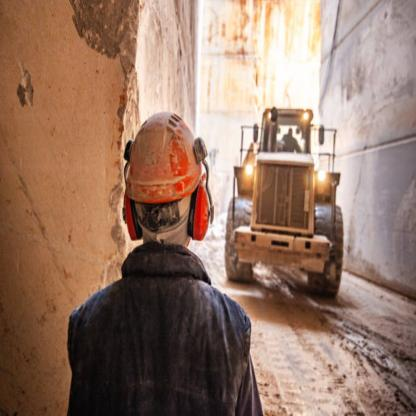bull_dozer/loader/grader: (229, 98, 353, 312)
person: (66, 107, 262, 415)
